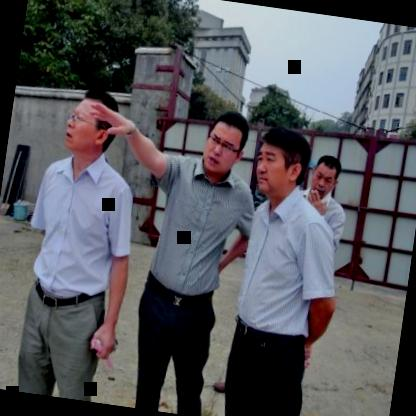head: (56, 81, 126, 161), (251, 119, 311, 202), (196, 104, 254, 178), (307, 149, 344, 203)
